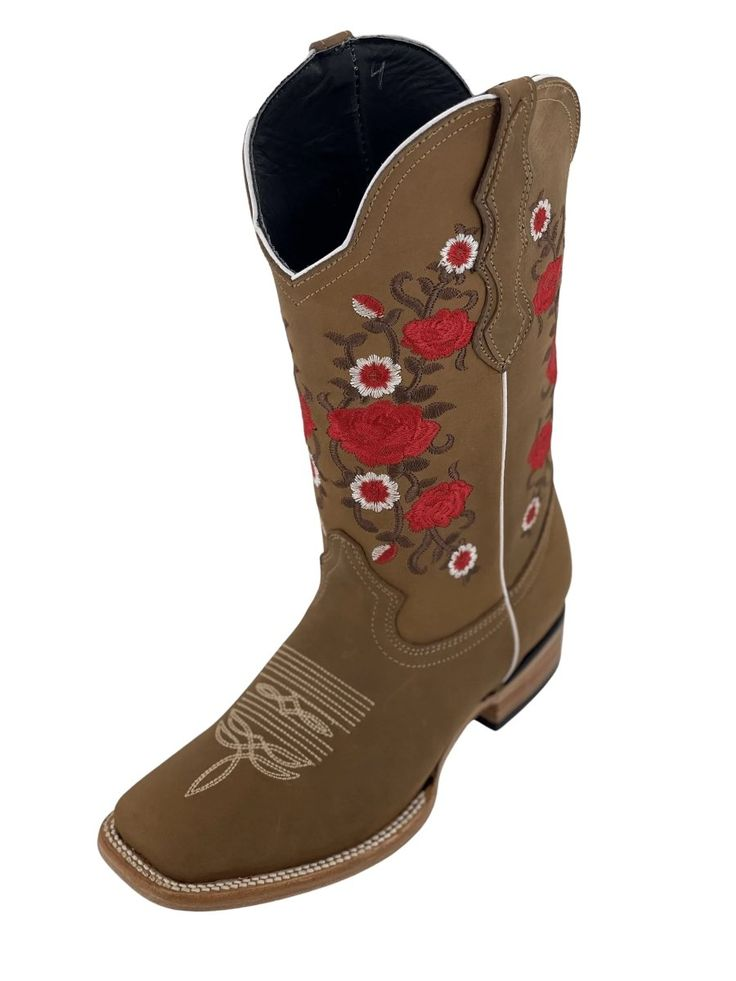gamuza: (110, 76, 580, 883)
